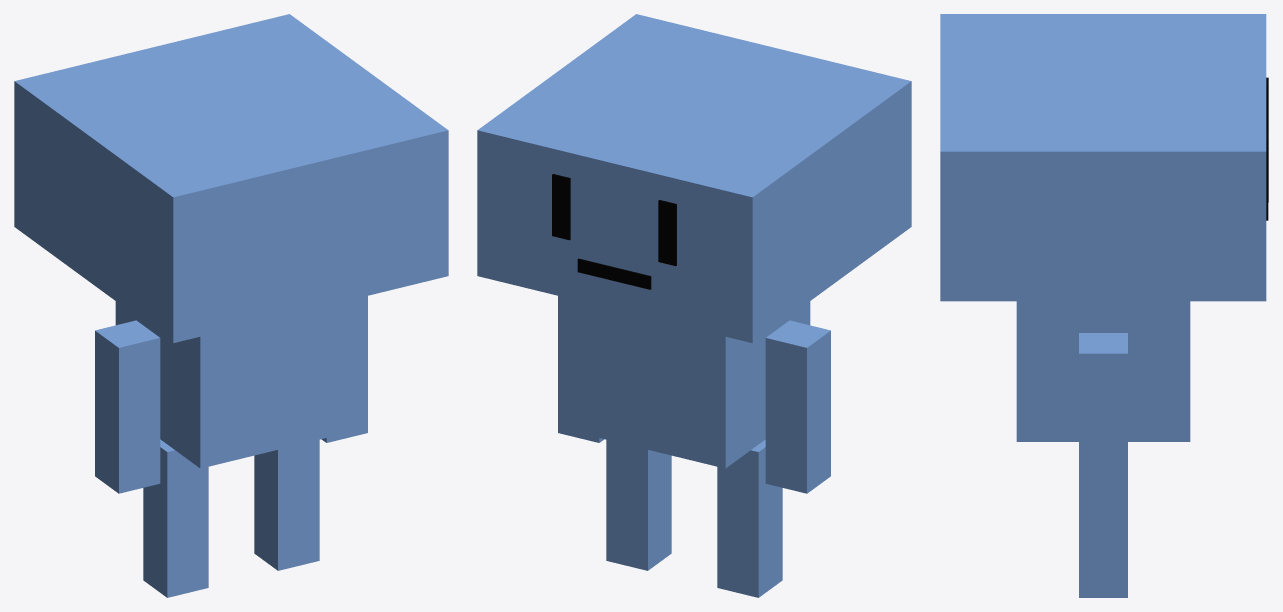
Rendered from chip.glb.
3 renders of one model, left to right at view 1: azimuth 30°, elevation 25°; view 2: azimuth 150°, elevation 25°; view 3: azimuth 270°, elevation 25°, orthographic. The views are drawn at different scales.
Visible parts, largest first — view 1: Cube.004; view 2: Cube.004; view 3: Cube.004.
Part boxes in pixels (x1,y1,x2,y2): Cube.004: (14,14,448,597); Cube.004: (477,14,911,597); Cube.004: (940,14,1268,597).
Bounding box in the file's own units: 1.55 × 2.51 × 1.56.
